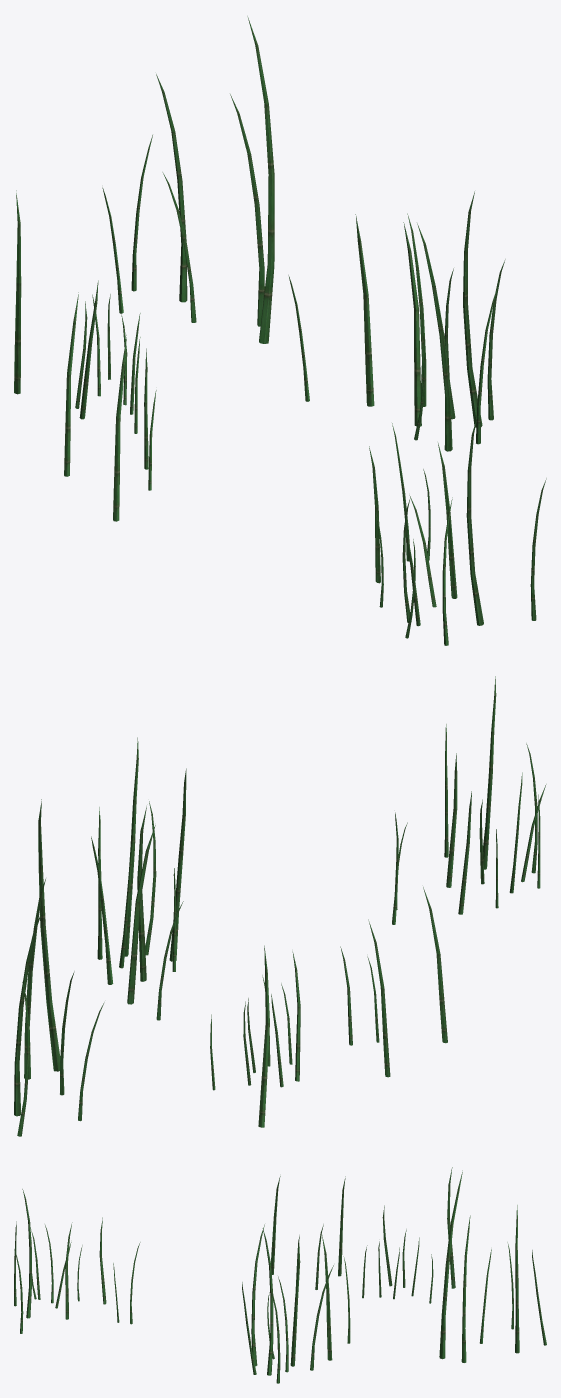
The model's file is Area_08_7.fbx.
3 views of the same model, one above another, from view 1: azimuth 30°, elevation 25°; view 2: azimuth 150°, elevation 25°; view 3: azimuth 270°, elevation 25° (orthographic). The views are drawn at different scales.
Parts seen in each view (by area): view 1: Area_08_7; view 2: Area_08_7; view 3: Area_08_7.
Part boxes in pixels (x1,y1,x2,y2): Area_08_7: [14, 16, 546, 645]; Area_08_7: [14, 676, 546, 1136]; Area_08_7: [14, 1167, 546, 1383].
Size of the model in its own units: 3699 by 2877 by 7308.
